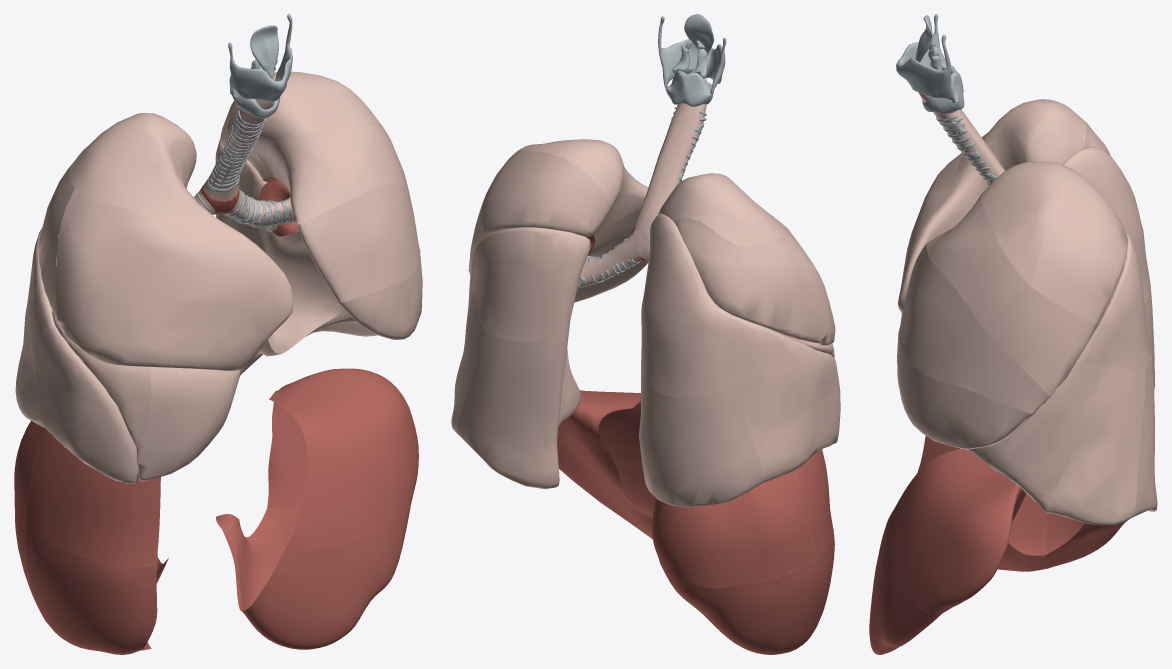
The model's file is adult_female.respiratory.LOD1.glb.
3 renders of one model, left to right at view 1: azimuth 30°, elevation 25°; view 2: azimuth 150°, elevation 25°; view 3: azimuth 270°, elevation 25°, orthographic. The views are drawn at different scales.
Visible parts, largest first — view 1: ADULT.FEMALE.RESPIRATORY.ANTERIOR_BRONCHOPULMONARY_SEGM.R, ADULT.FEMALE.RESPIRATORY.SUPEROMEDIAL_SEGMENT.L, ADULT.FEMALE.RESPIRATORY.ANTEROLATERAL_SEGMENT.L, ADULT.FEMALE.RESPIRATORY.ANTEROSUPERIOR_SEGMENT.R, ADULT.FEMALE.RESPIRATORY.ANTEROINFERIOR_SEGMENT.R, ADULT.FEMALE.RESPIRATORY.ANTERIOR_BASAL_BRONCHOPULMONARY_SEG, ADULT.FEMALE.RESPIRATORY.LINGULA_SUPERIOR_BRONCHOPULMONARY_S, ADULT.FEMALE.RESPIRATORY.APICAL_BRONCHOPULMONARY_SEGMENT.R, ADULT.FEMALE.RESPIRATORY.ANTERIOR_BRONCHOPULMONARY_SEGMENT.L, ADULT.FEMALE.RESPIRATORY.MEDIAL_BRONCHOPULMONARY_SEGMENT.R, ADULT.FEMALE.RESPIRATORY.APICAL_BRONCHOPULMONARY_SEGMENT.L, ADULT.FEMALE.RESPIRATORY.MEDIAL_BASAL_BRONCHOPULMONARY_SEGME (+14 smaller); view 2: ADULT.FEMALE.RESPIRATORY.POSTERIOR_BASAL_BRONCHOPULMONARY_SE (×2), ADULT.FEMALE.RESPIRATORY.POSTERIOR_BRONCHOPULMONARY_SEGMENT. (×2), ADULT.FEMALE.RESPIRATORY.SUPERIOR_BRONCHOPULMONARY_SEGMENT.R, ADULT.FEMALE.RESPIRATORY.POSTEROSUPERIOR_SEGMENT.R, ADULT.FEMALE.RESPIRATORY.SUPERIOR_BRONCHOPULMONARY_SEGMENT.L, ADULT.FEMALE.RESPIRATORY.LATERAL_BASAL_BRONCHOPULMONARY_SEGM (×2), ADULT.FEMALE.RESPIRATORY.POSTEROINFERIOR_SEGMENT.R, ADULT.FEMALE.RESPIRATORY.SUPEROMEDIAL_SEGMENT.L, ADULT.FEMALE.RESPIRATORY.APICAL_BRONCHOPULMONARY_SEGMENT.R, ADULT.FEMALE.RESPIRATORY.ANTERIOR_BASAL_BRONCHOPULMONARY_SEG, ADULT.FEMALE.RESPIRATORY.TRACHEA, ADULT.FEMALE.RESPIRATORY.ANTEROLATERAL_SEGMENT.L (+11 smaller); view 3: ADULT.FEMALE.RESPIRATORY.SUPEROMEDIAL_SEGMENT.L, ADULT.FEMALE.RESPIRATORY.ANTERIOR_BRONCHOPULMONARY_SEGMENT.L, ADULT.FEMALE.RESPIRATORY.LINGULA_SUPERIOR_BRONCHOPULMONARY_S, ADULT.FEMALE.RESPIRATORY.LATERAL_BASAL_BRONCHOPULMONARY_SEGM, ADULT.FEMALE.RESPIRATORY.POSTERIOR_BRONCHOPULMONARY_SEGMENT., ADULT.FEMALE.RESPIRATORY.ANTERIOR_BASAL_BRONCHOPULMONARY_SEG, ADULT.FEMALE.RESPIRATORY.LINGULA_INFERIOR_BRONCHOPULMONARY_S, ADULT.FEMALE.RESPIRATORY.APICAL_BRONCHOPULMONARY_SEGMENT.L, ADULT.FEMALE.RESPIRATORY.APICAL_BRONCHOPULMONARY_SEGMENT.R, ADULT.FEMALE.RESPIRATORY.SUPERIOR_BRONCHOPULMONARY_SEGMENT.L, ADULT.FEMALE.RESPIRATORY.ANTERIOR_BRONCHOPULMONARY_SEGM.R, ADULT.FEMALE.RESPIRATORY.SUPERIOR_BRONCHOPULMONARY_SEGMENT.R (+10 smaller).
Part boxes in pixels (x1,y1,x2,y2): ADULT.FEMALE.RESPIRATORY.ANTERIOR_BRONCHOPULMONARY_SEGM.R: [56, 188, 293, 370]; ADULT.FEMALE.RESPIRATORY.SUPEROMEDIAL_SEGMENT.L: [267, 368, 418, 552]; ADULT.FEMALE.RESPIRATORY.ANTEROLATERAL_SEGMENT.L: [216, 508, 409, 649]; ADULT.FEMALE.RESPIRATORY.ANTEROSUPERIOR_SEGMENT.R: [26, 428, 160, 567]; ADULT.FEMALE.RESPIRATORY.ANTEROINFERIOR_SEGMENT.R: [25, 526, 168, 654]; ADULT.FEMALE.RESPIRATORY.ANTERIOR_BASAL_BRONCHOPULMONARY_SEG: [30, 273, 151, 483]; ADULT.FEMALE.RESPIRATORY.LINGULA_SUPERIOR_BRONCHOPULMONARY_S: [297, 182, 420, 303]; ADULT.FEMALE.RESPIRATORY.APICAL_BRONCHOPULMONARY_SEGMENT.R: [69, 113, 196, 215]; ADULT.FEMALE.RESPIRATORY.ANTERIOR_BRONCHOPULMONARY_SEGMENT.L: [269, 123, 408, 224]; ADULT.FEMALE.RESPIRATORY.MEDIAL_BRONCHOPULMONARY_SEGMENT.R: [136, 367, 240, 481]; ADULT.FEMALE.RESPIRATORY.APICAL_BRONCHOPULMONARY_SEGMENT.L: [227, 71, 382, 176]; ADULT.FEMALE.RESPIRATORY.MEDIAL_BASAL_BRONCHOPULMONARY_SEGME: [265, 231, 346, 353]; ADULT.FEMALE.RESPIRATORY.POSTERIOR_BASAL_BRONCHOPULMONARY_SE (×2): [456, 320, 763, 507]; ADULT.FEMALE.RESPIRATORY.POSTERIOR_BRONCHOPULMONARY_SEGMENT. (×2): [473, 150, 821, 342]; ADULT.FEMALE.RESPIRATORY.SUPERIOR_BRONCHOPULMONARY_SEGMENT.R: [641, 213, 784, 397]; ADULT.FEMALE.RESPIRATORY.POSTEROSUPERIOR_SEGMENT.R: [652, 471, 813, 588]; ADULT.FEMALE.RESPIRATORY.SUPERIOR_BRONCHOPULMONARY_SEGMENT.L: [471, 227, 590, 341]; ADULT.FEMALE.RESPIRATORY.LATERAL_BASAL_BRONCHOPULMONARY_SEGM (×2): [451, 290, 817, 483]; ADULT.FEMALE.RESPIRATORY.POSTEROINFERIOR_SEGMENT.R: [662, 557, 814, 654]; ADULT.FEMALE.RESPIRATORY.SUPEROMEDIAL_SEGMENT.L: [557, 390, 641, 506]; ADULT.FEMALE.RESPIRATORY.APICAL_BRONCHOPULMONARY_SEGMENT.R: [658, 173, 784, 246]; ADULT.FEMALE.RESPIRATORY.ANTERIOR_BASAL_BRONCHOPULMONARY_SEG: [775, 335, 840, 451]; ADULT.FEMALE.RESPIRATORY.TRACHEA: [633, 78, 706, 261]; ADULT.FEMALE.RESPIRATORY.ANTEROLATERAL_SEGMENT.L: [562, 459, 655, 539]; ADULT.FEMALE.RESPIRATORY.SUPEROMEDIAL_SEGMENT.L: [880, 448, 1026, 615]; ADULT.FEMALE.RESPIRATORY.ANTERIOR_BRONCHOPULMONARY_SEGMENT.L: [926, 193, 1097, 396]; ADULT.FEMALE.RESPIRATORY.LINGULA_SUPERIOR_BRONCHOPULMONARY_S: [898, 244, 1049, 414]; ADULT.FEMALE.RESPIRATORY.LATERAL_BASAL_BRONCHOPULMONARY_SEGM: [1046, 366, 1145, 525]; ADULT.FEMALE.RESPIRATORY.POSTERIOR_BRONCHOPULMONARY_SEGMENT.: [1031, 171, 1128, 323]; ADULT.FEMALE.RESPIRATORY.ANTERIOR_BASAL_BRONCHOPULMONARY_SEG: [966, 362, 1104, 511]; ADULT.FEMALE.RESPIRATORY.LINGULA_INFERIOR_BRONCHOPULMONARY_S: [897, 337, 1033, 449]; ADULT.FEMALE.RESPIRATORY.APICAL_BRONCHOPULMONARY_SEGMENT.L: [981, 161, 1075, 286]; ADULT.FEMALE.RESPIRATORY.APICAL_BRONCHOPULMONARY_SEGMENT.R: [959, 99, 1087, 170]; ADULT.FEMALE.RESPIRATORY.SUPERIOR_BRONCHOPULMONARY_SEGMENT.L: [1076, 231, 1151, 372]; ADULT.FEMALE.RESPIRATORY.ANTERIOR_BRONCHOPULMONARY_SEGM.R: [898, 153, 988, 313]; ADULT.FEMALE.RESPIRATORY.SUPERIOR_BRONCHOPULMONARY_SEGMENT.R: [1063, 147, 1150, 302].
Size of the model in its own units: 0.2554 by 0.4012 by 0.1689.
